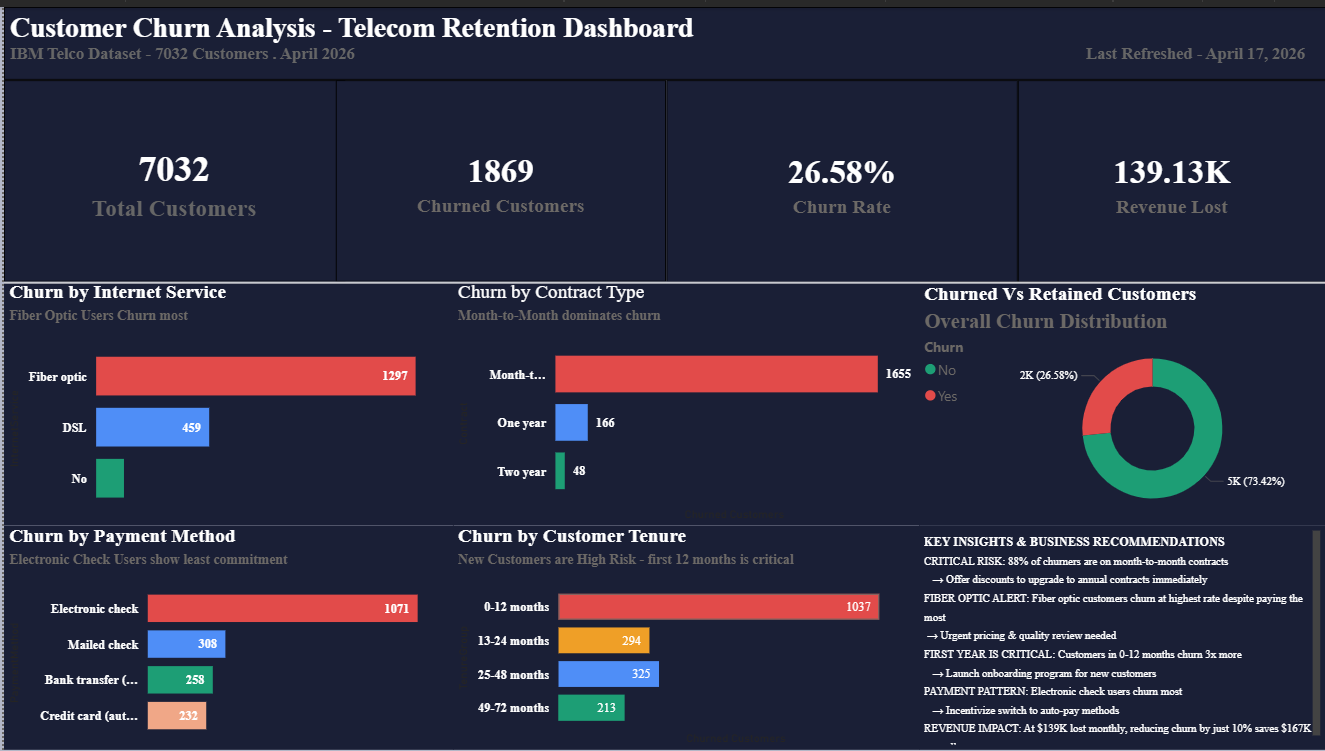

What the dashboard file says about the page in this screenshot:
{"tool":"powerbi","page":{"name":"Executive Summary ","canvas":[1280,720],"ordinal":0},"visuals":[{"type":"textbox","box":[0,0,1280.6,70.9],"z":0},{"type":"card","fields":{"Values":["churn_powerbi.Total Customers"]},"box":[0,71.2,330,195],"z":1000},{"type":"card","fields":{"Values":["churn_powerbi.Churned Customers"]},"box":[321.2,71.2,320,195],"z":2000},{"type":"card","fields":{"Values":["churn_powerbi.Churn Rate"]},"box":[641.2,71.2,340,196.2],"z":3000},{"type":"card","fields":{"Values":["churn_powerbi.Revenue Lost"]},"box":[981.2,71.2,298.8,196.2],"z":4000},{"type":"clusteredBarChart","title":"Churn by Customer Tenure ","fields":{"Category":["churn_powerbi.TenureGroup"],"Y":["churn_powerbi.Churned Customers"]},"box":[435,502.5,451.2,217.5],"z":5000},{"type":"donutChart","title":"Churned Vs Retained Customers","fields":{"Category":["churn_powerbi.Churn"],"Y":["churn_powerbi.Total Customers"]},"box":[886.2,267.5,393.8,235],"z":6000},{"type":"clusteredBarChart","title":"Churn by Contract Type ","fields":{"Category":["churn_powerbi.Contract"],"Y":["churn_powerbi.Churned Customers"]},"box":[435,266.2,451.2,236.2],"z":7000},{"type":"clusteredBarChart","title":"Churn by Payment Method ","fields":{"Category":["churn_powerbi.PaymentMethod"],"Y":["churn_powerbi.Churned Customers"]},"box":[0,502.5,435,217.5],"z":8000},{"type":"clusteredBarChart","title":"Churn by Internet Service ","fields":{"Category":["churn_powerbi.InternetService"],"Y":["churn_powerbi.Churned Customers"]},"box":[0,266.2,435,236.2],"z":9000},{"type":"textbox","box":[886.2,502.5,393.8,217.5],"z":10000},{"type":"shape","box":[0,117.5,1280,300],"z":11000}]}

Visuals, with their boxes in screenshot pixels (x1, y1, x2, y2), scaled from the page's 1280x720 canvas onto the 1325x751 screenshot:
textbox: box=[0, 0, 1324, 74]
card - churn_powerbi.Total Customers: box=[0, 74, 342, 278]
card - churn_powerbi.Churned Customers: box=[332, 74, 664, 278]
card - churn_powerbi.Churn Rate: box=[664, 74, 1016, 279]
card - churn_powerbi.Revenue Lost: box=[1016, 74, 1324, 279]
"Churn by Customer Tenure " clusteredBarChart: box=[450, 524, 917, 750]
"Churned Vs Retained Customers" donutChart: box=[917, 279, 1324, 524]
"Churn by Contract Type " clusteredBarChart: box=[450, 278, 917, 524]
"Churn by Payment Method " clusteredBarChart: box=[0, 524, 450, 750]
"Churn by Internet Service " clusteredBarChart: box=[0, 278, 450, 524]
textbox: box=[917, 524, 1324, 750]
shape: box=[0, 123, 1324, 435]
